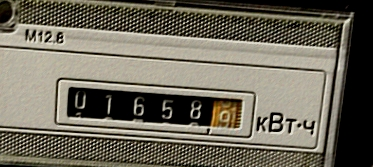0: (73, 89, 87, 112)
1: (103, 94, 114, 116)
5: (160, 98, 175, 122)
6: (131, 96, 146, 118)
8: (188, 99, 203, 121)
9: (215, 109, 230, 131)
screen: (48, 73, 263, 145)
